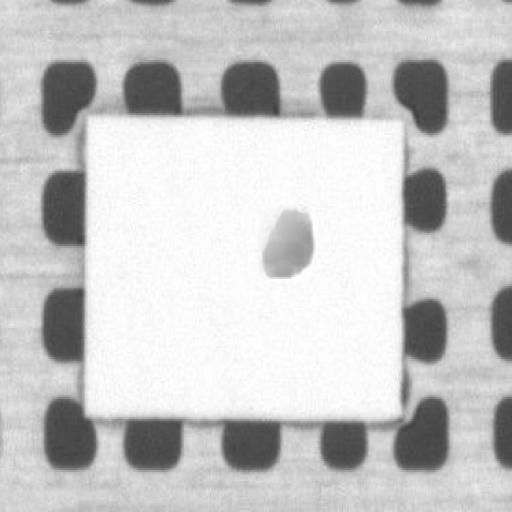DIE_INK: (336, 144, 426, 218)
